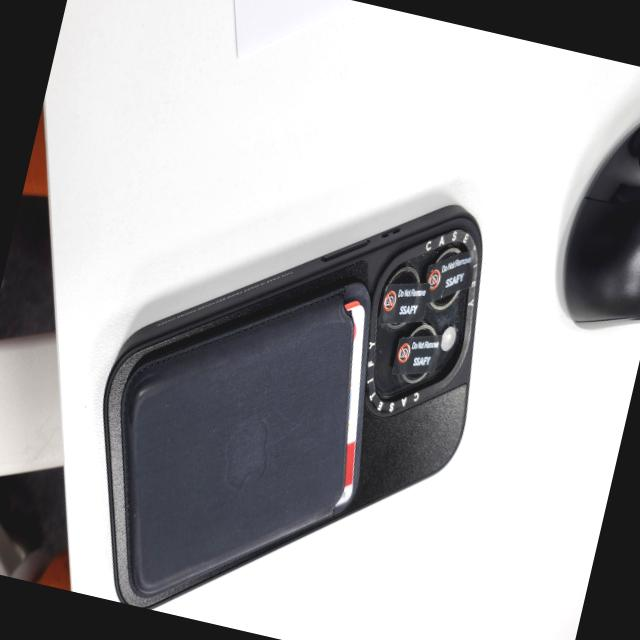phone: (57, 134, 512, 640)
sticker: (419, 242, 476, 306), (388, 324, 442, 383), (377, 274, 430, 327)
